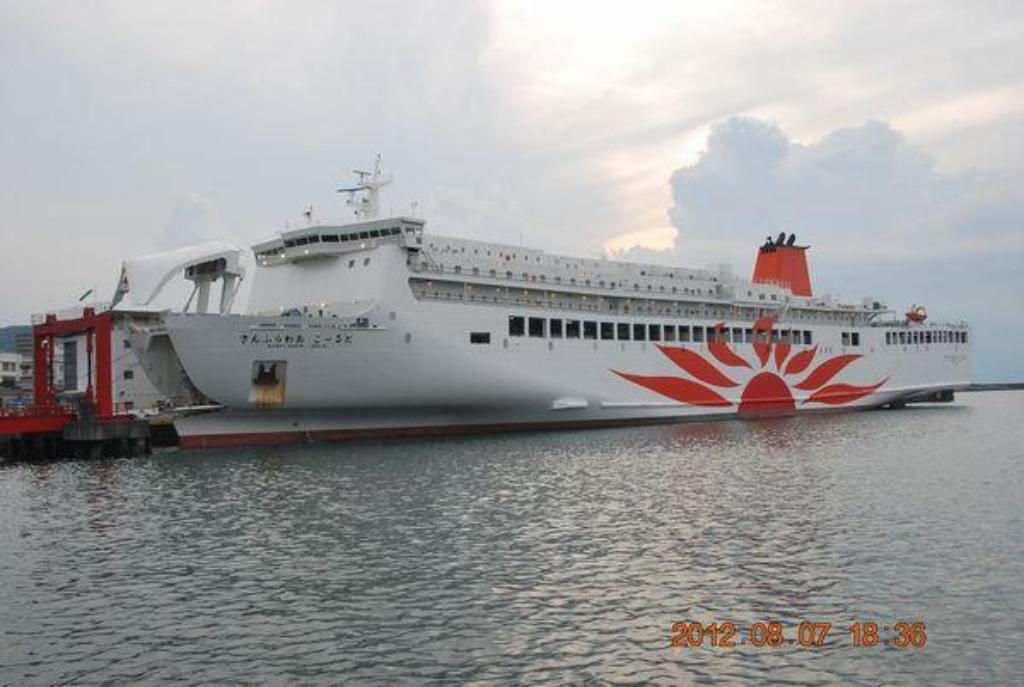PassengerShip: (97, 178, 977, 430)
